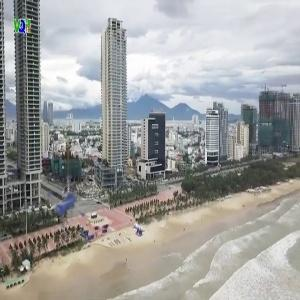drone: (23, 161, 101, 239)
